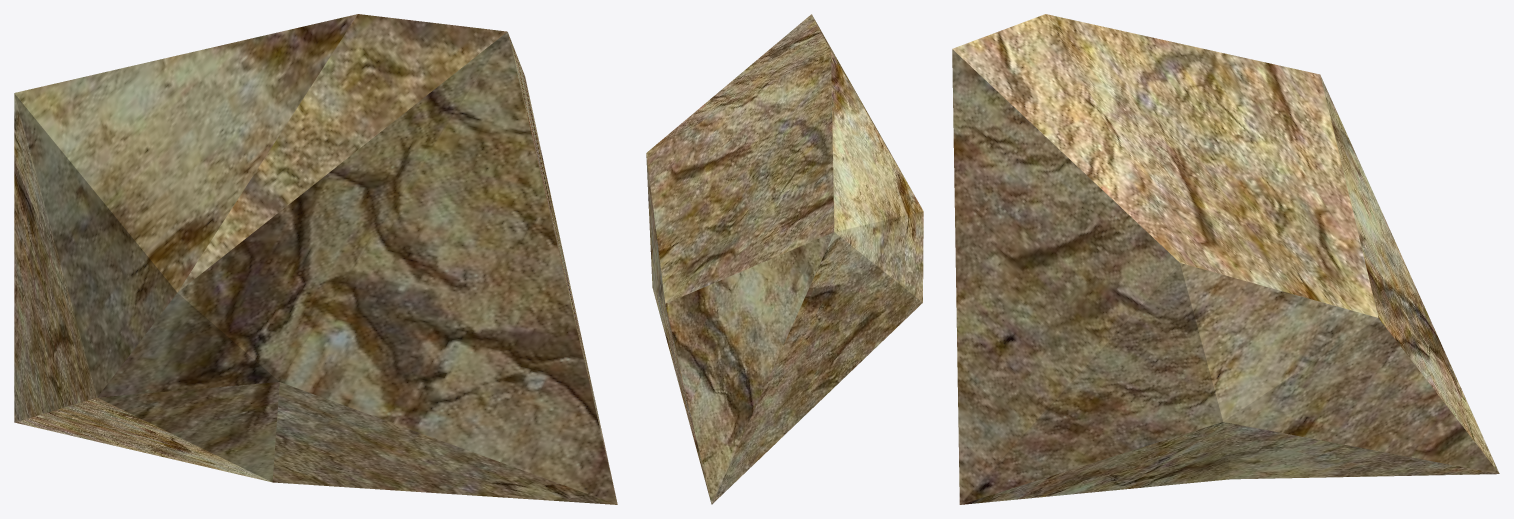
The model's file is rock16.fbx.
The picture shows the model from 3 angles, left to right: view 1: azimuth 30°, elevation 25°; view 2: azimuth 150°, elevation 25°; view 3: azimuth 270°, elevation 25°; orthographic projection. The views are drawn at different scales.
Parts seen in each view (by area): view 1: Rock16; view 2: Rock16; view 3: Rock16.
Part boxes in pixels (x1,y1,x2,y2): Rock16: (14,14,617,504); Rock16: (646,14,923,504); Rock16: (952,14,1499,504).
Bounding box in the file's own units: 10.89 × 13.47 × 13.72.
